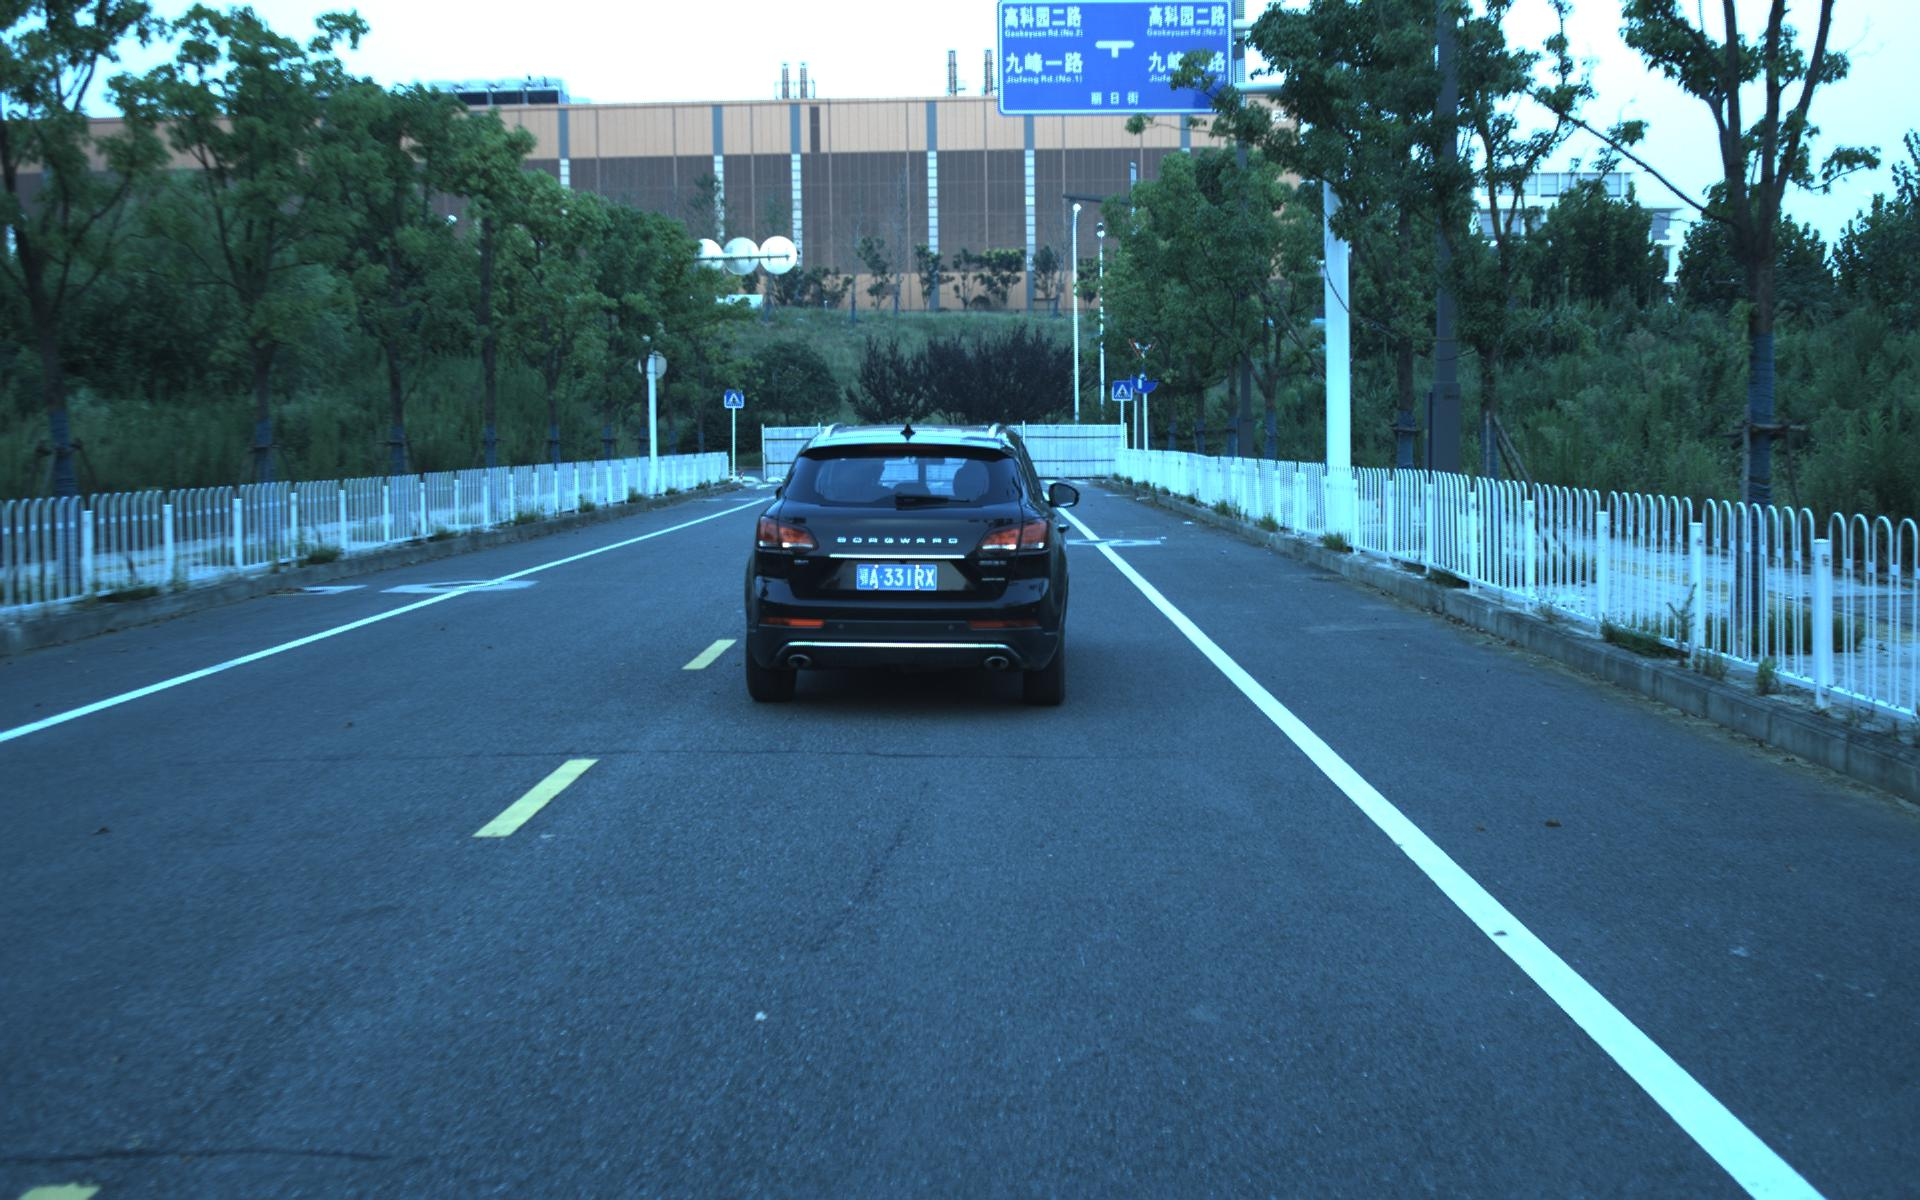Car: (737, 413, 1069, 711)
